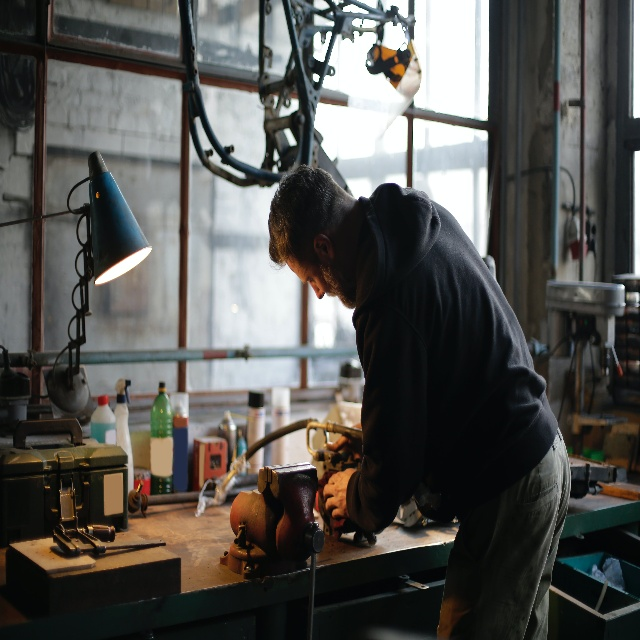Sin_guantes: (322, 465, 352, 519)
